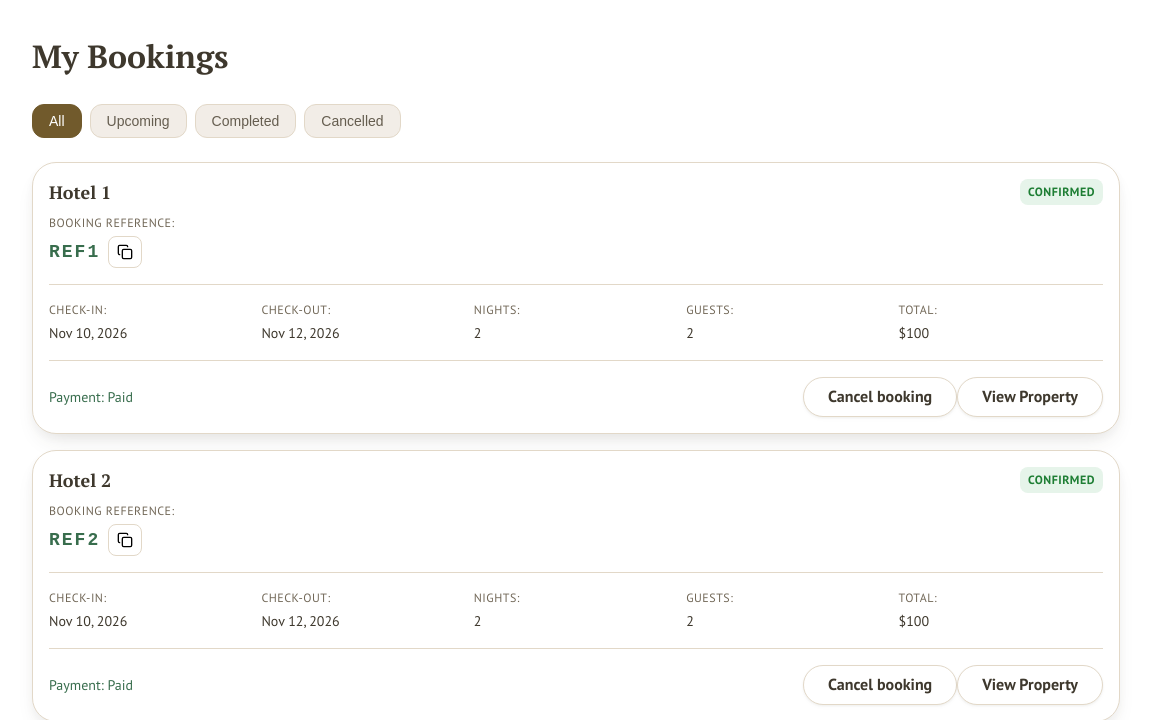
Test: BookingsPage pages › starts again from the first page when the filter changes
Expected: the link "Hotel 1" is shown, [49,180,111,204]
Click the button with aria-label "Show completed bookings" at (245, 121), box [195,104,296,138]
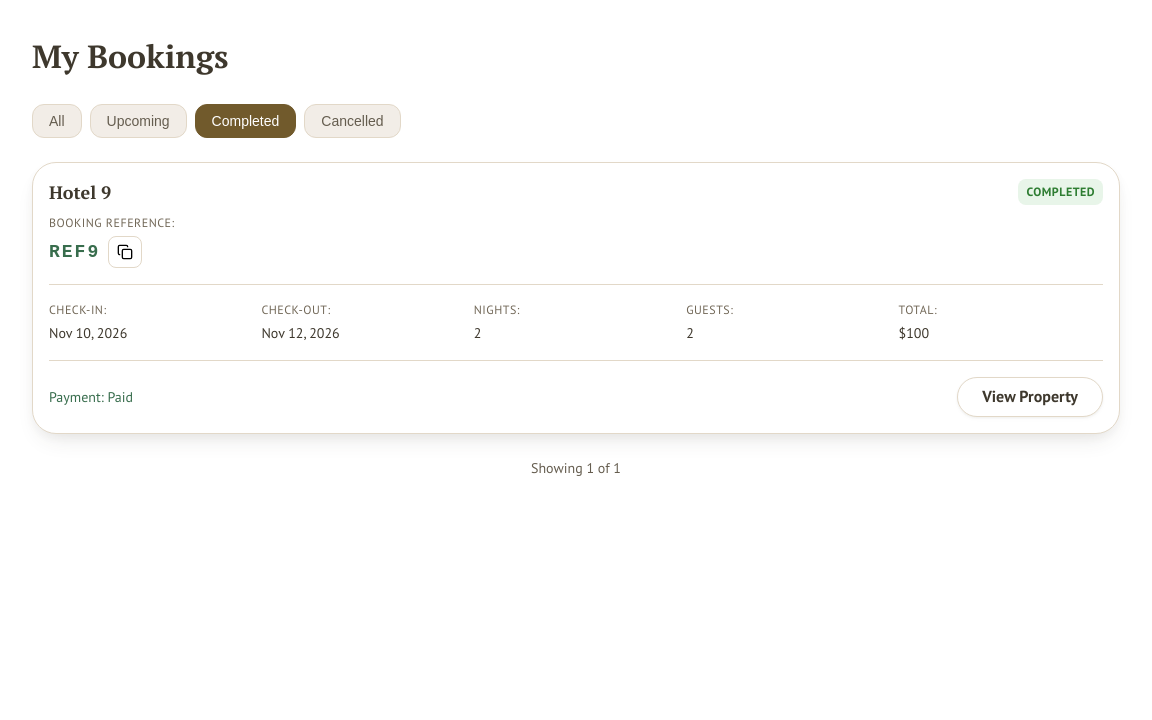
Now the link "Hotel 9" is shown, box [49,180,111,204]
Now the link "Hotel 1" is gone
